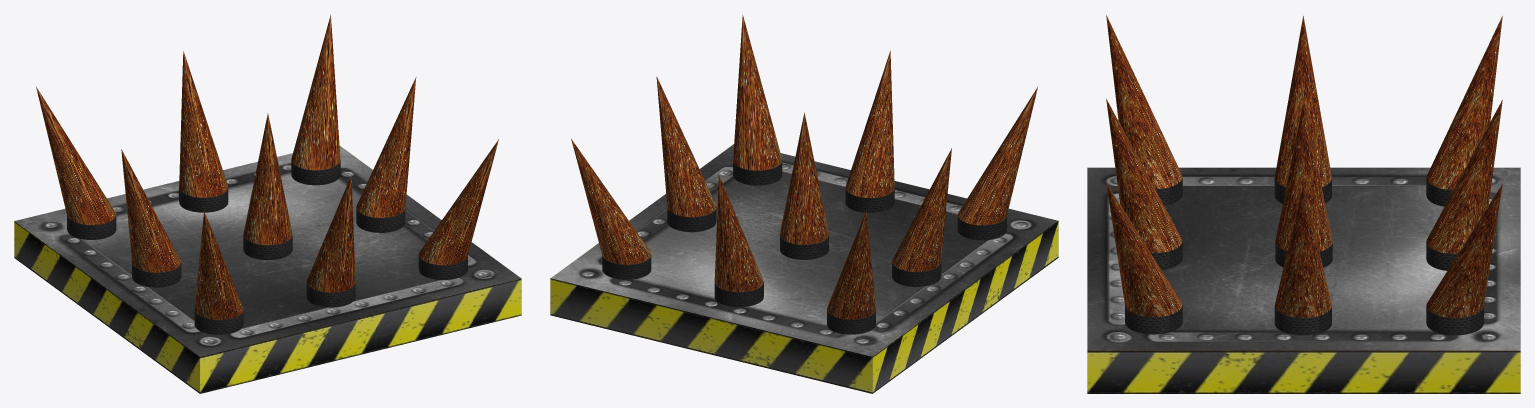
File: spikes_b.obj
3 renders of one model, left to right at view 1: azimuth 30°, elevation 25°; view 2: azimuth 150°, elevation 25°; view 3: azimuth 270°, elevation 25°, orthographic. The views are drawn at different scales.
Parts seen in each view (by area): view 1: Plane, Plane.008_Plane.011, Plane.007_Plane.010, Plane.005_Plane.008, Plane.009_Plane.012, Plane.006_Plane.009, Plane.002, Plane.004_Plane.007, Plane.001_Plane.005, Plane.003_Plane.006; view 2: Plane, Plane.002, Plane.001_Plane.005, Plane.005_Plane.008, Plane.003_Plane.006, Plane.006_Plane.009, Plane.008_Plane.011, Plane.004_Plane.007, Plane.007_Plane.010, Plane.009_Plane.012; view 3: Plane, Plane.008_Plane.011, Plane.002, Plane.005_Plane.008, Plane.003_Plane.006, Plane.009_Plane.012, Plane.001_Plane.005, Plane.007_Plane.010, Plane.004_Plane.007, Plane.006_Plane.009.
Boxes of the visible parts, box(x1,y1,x2,y2) form: Plane: box(14, 145, 521, 393); Plane.008_Plane.011: box(291, 14, 340, 185); Plane.007_Plane.010: box(179, 51, 228, 212); Plane.005_Plane.008: box(356, 77, 416, 232); Plane.009_Plane.012: box(36, 86, 116, 239); Plane.006_Plane.009: box(243, 113, 292, 260); Plane.002: box(418, 139, 498, 280); Plane.004_Plane.007: box(121, 149, 181, 287); Plane.001_Plane.005: box(306, 175, 355, 307); Plane.003_Plane.006: box(194, 211, 243, 334); Plane: box(550, 144, 1058, 393); Plane.002: box(733, 14, 782, 185); Plane.001_Plane.005: box(845, 50, 894, 212); Plane.005_Plane.008: box(656, 76, 716, 232); Plane.003_Plane.006: box(957, 87, 1037, 240); Plane.006_Plane.009: box(780, 112, 828, 259); Plane.008_Plane.011: box(571, 138, 651, 279); Plane.004_Plane.007: box(892, 148, 951, 286); Plane.007_Plane.010: box(714, 174, 763, 307); Plane.009_Plane.012: box(827, 210, 875, 334); Plane: box(1087, 167, 1520, 393); Plane.008_Plane.011: box(1426, 184, 1502, 335); Plane.002: box(1106, 182, 1182, 334); Plane.005_Plane.008: box(1274, 184, 1331, 335); Plane.003_Plane.006: box(1106, 15, 1182, 205); Plane.009_Plane.012: box(1426, 16, 1502, 206); Plane.001_Plane.005: box(1106, 98, 1182, 269); Plane.007_Plane.010: box(1426, 100, 1502, 270); Plane.004_Plane.007: box(1274, 16, 1331, 203); Plane.006_Plane.009: box(1275, 100, 1332, 267).
Bounding box in the file's own units: 20 × 10.37 × 20.
